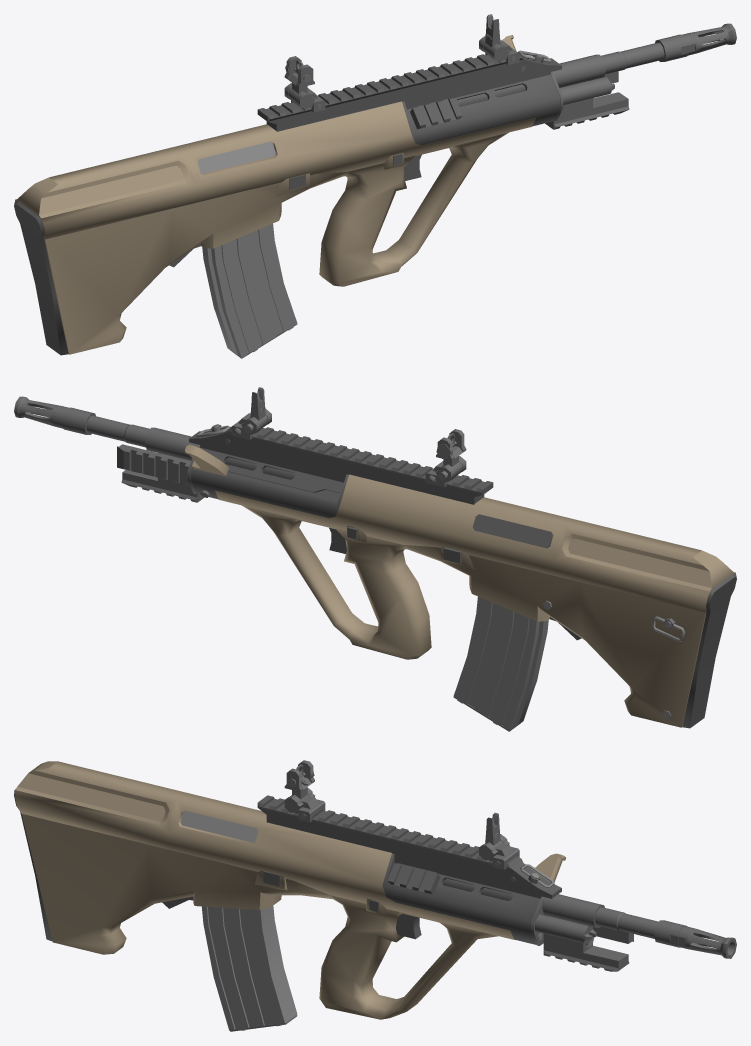
The model's file is aug_a3.glb.
3 views of the same model, one above another, from view 1: azimuth 30°, elevation 25°; view 2: azimuth 150°, elevation 25°; view 3: azimuth 330°, elevation 25° (orthographic).
Visible parts, largest first — view 1: Cylinder.006, STANAG, SIG RearSight, Bolt, SIG FrontSight; view 2: Cylinder.006, STANAG, SIG RearSight, SIG FrontSight, BoltCarry; view 3: Cylinder.006, STANAG, SIG RearSight, Bolt, SIG FrontSight, Trigger, BoltCarry.
Part boxes in pixels (box(x1,y1,x2,y2)): Cylinder.006: box(14, 23, 736, 355); STANAG: box(202, 223, 297, 358); SIG RearSight: box(284, 56, 325, 112); Bolt: box(197, 141, 275, 173); SIG FrontSight: box(479, 14, 519, 64); Cylinder.006: box(14, 396, 736, 728); STANAG: box(453, 596, 548, 731); SIG RearSight: box(425, 429, 466, 487); SIG FrontSight: box(231, 387, 271, 439); BoltCarry: box(185, 444, 229, 476); Cylinder.006: box(14, 761, 736, 1019); STANAG: box(201, 906, 297, 1031); SIG RearSight: box(284, 760, 325, 822); Bolt: box(180, 810, 258, 842); SIG FrontSight: box(479, 812, 519, 869); Trigger: box(395, 913, 421, 939); BoltCarry: box(533, 853, 565, 882).
Size of the model in its own units: 15.6 by 5.86 by 1.7.
